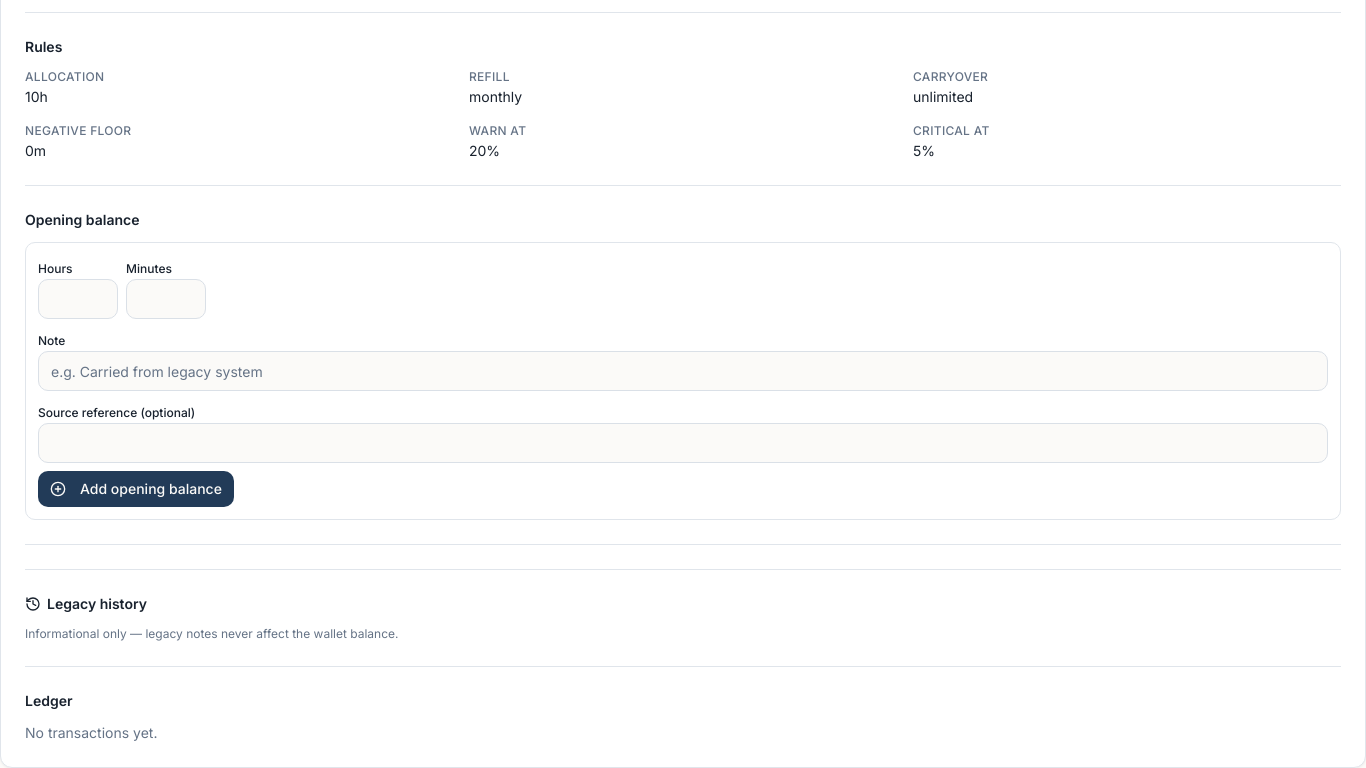
Test: TimeBankAdminPanel — opening balance › validates the amount before submitting
(page scrolled)
Step 1. Click the button "Add opening balance" → (136, 489), box x1=38 y1=471 x2=234 y2=507
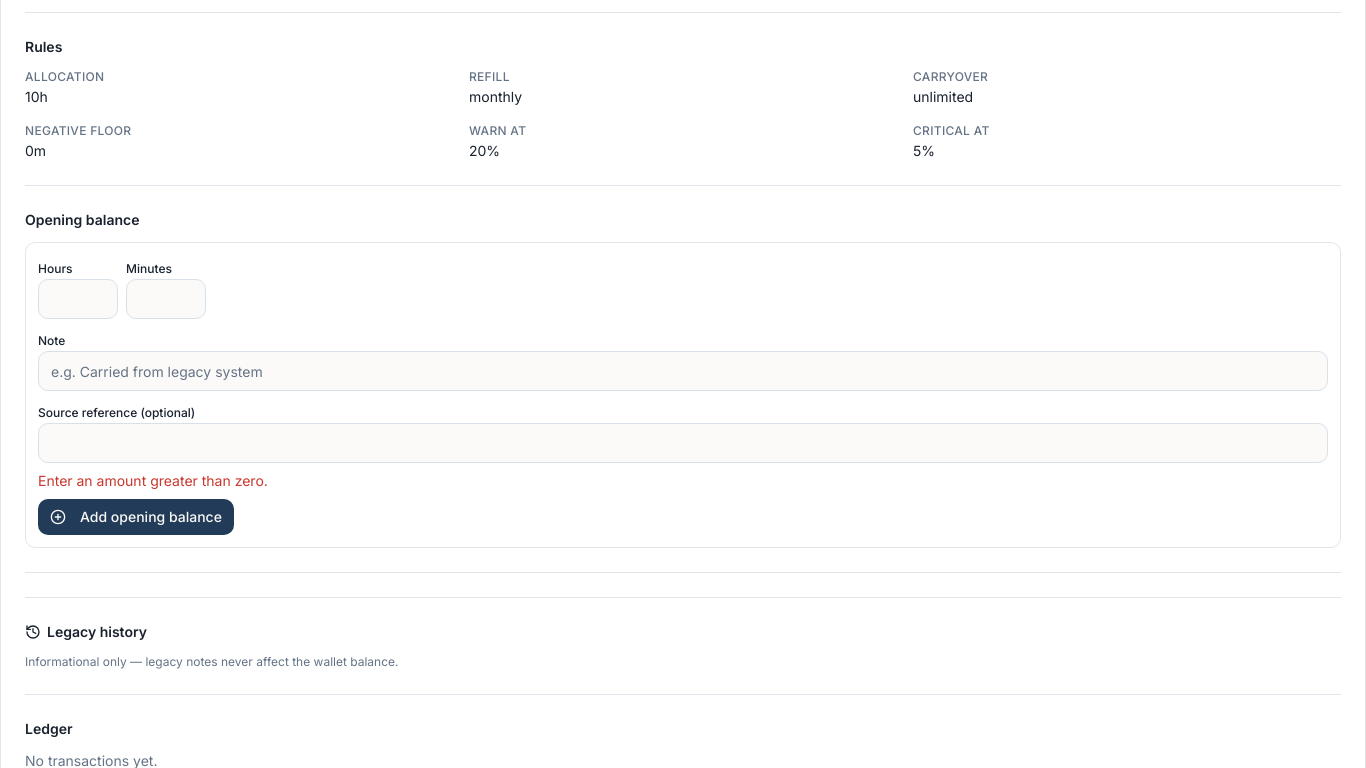
Check: the text "Enter an amount greater than zero." is shown, box x1=38 y1=472 x2=268 y2=489
